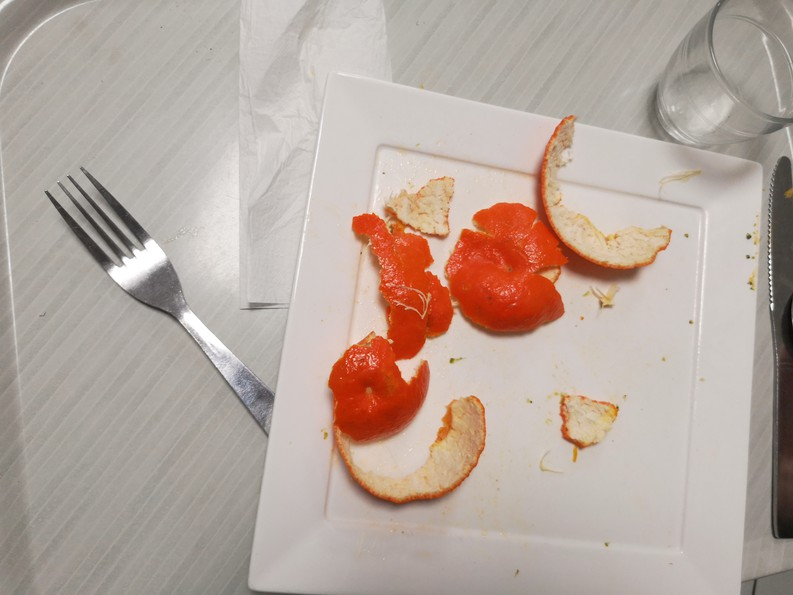orga: (340, 184, 554, 341), (535, 110, 685, 309), (334, 334, 486, 501), (557, 393, 621, 457)
trash: (239, 1, 316, 311), (305, 1, 401, 75)
